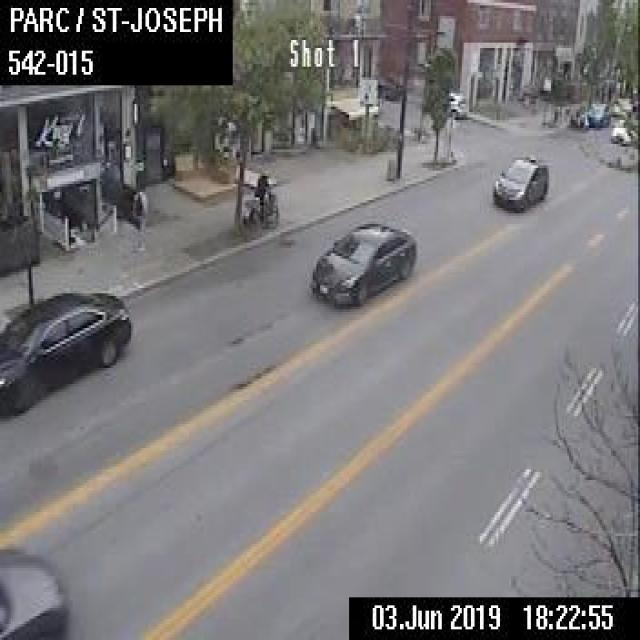cyclist: (242, 171, 278, 232)
pedestrian: (130, 183, 147, 249)
vehicle: (0, 286, 129, 414), (309, 218, 416, 306), (0, 544, 64, 637), (491, 152, 547, 211), (375, 72, 401, 101), (586, 99, 610, 125), (609, 117, 630, 143), (447, 91, 463, 117)
